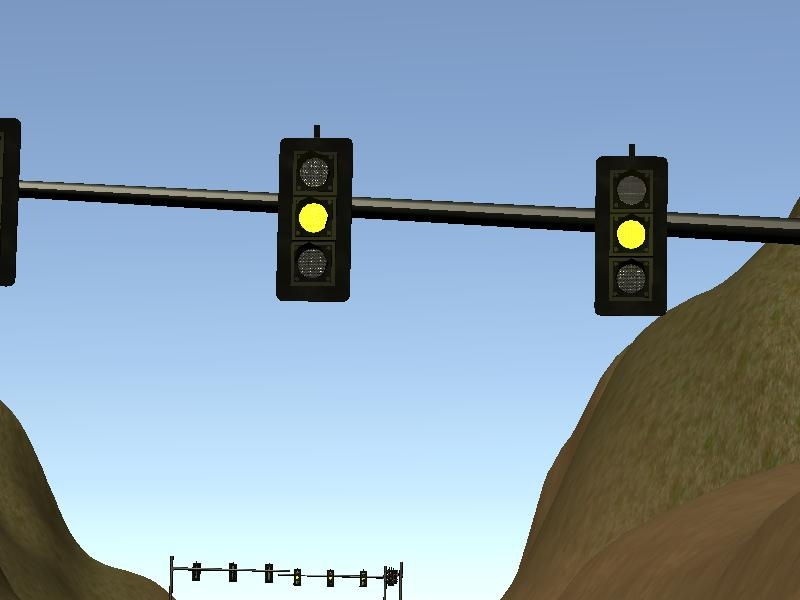yellow: (269, 126, 357, 313), (588, 139, 676, 324)
